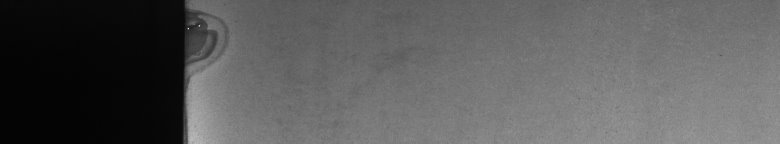hb: (196, 4, 236, 79)
